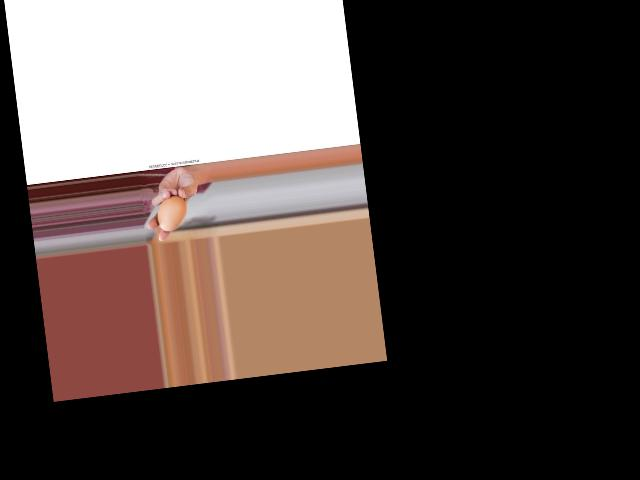egg: (154, 194, 188, 232)
